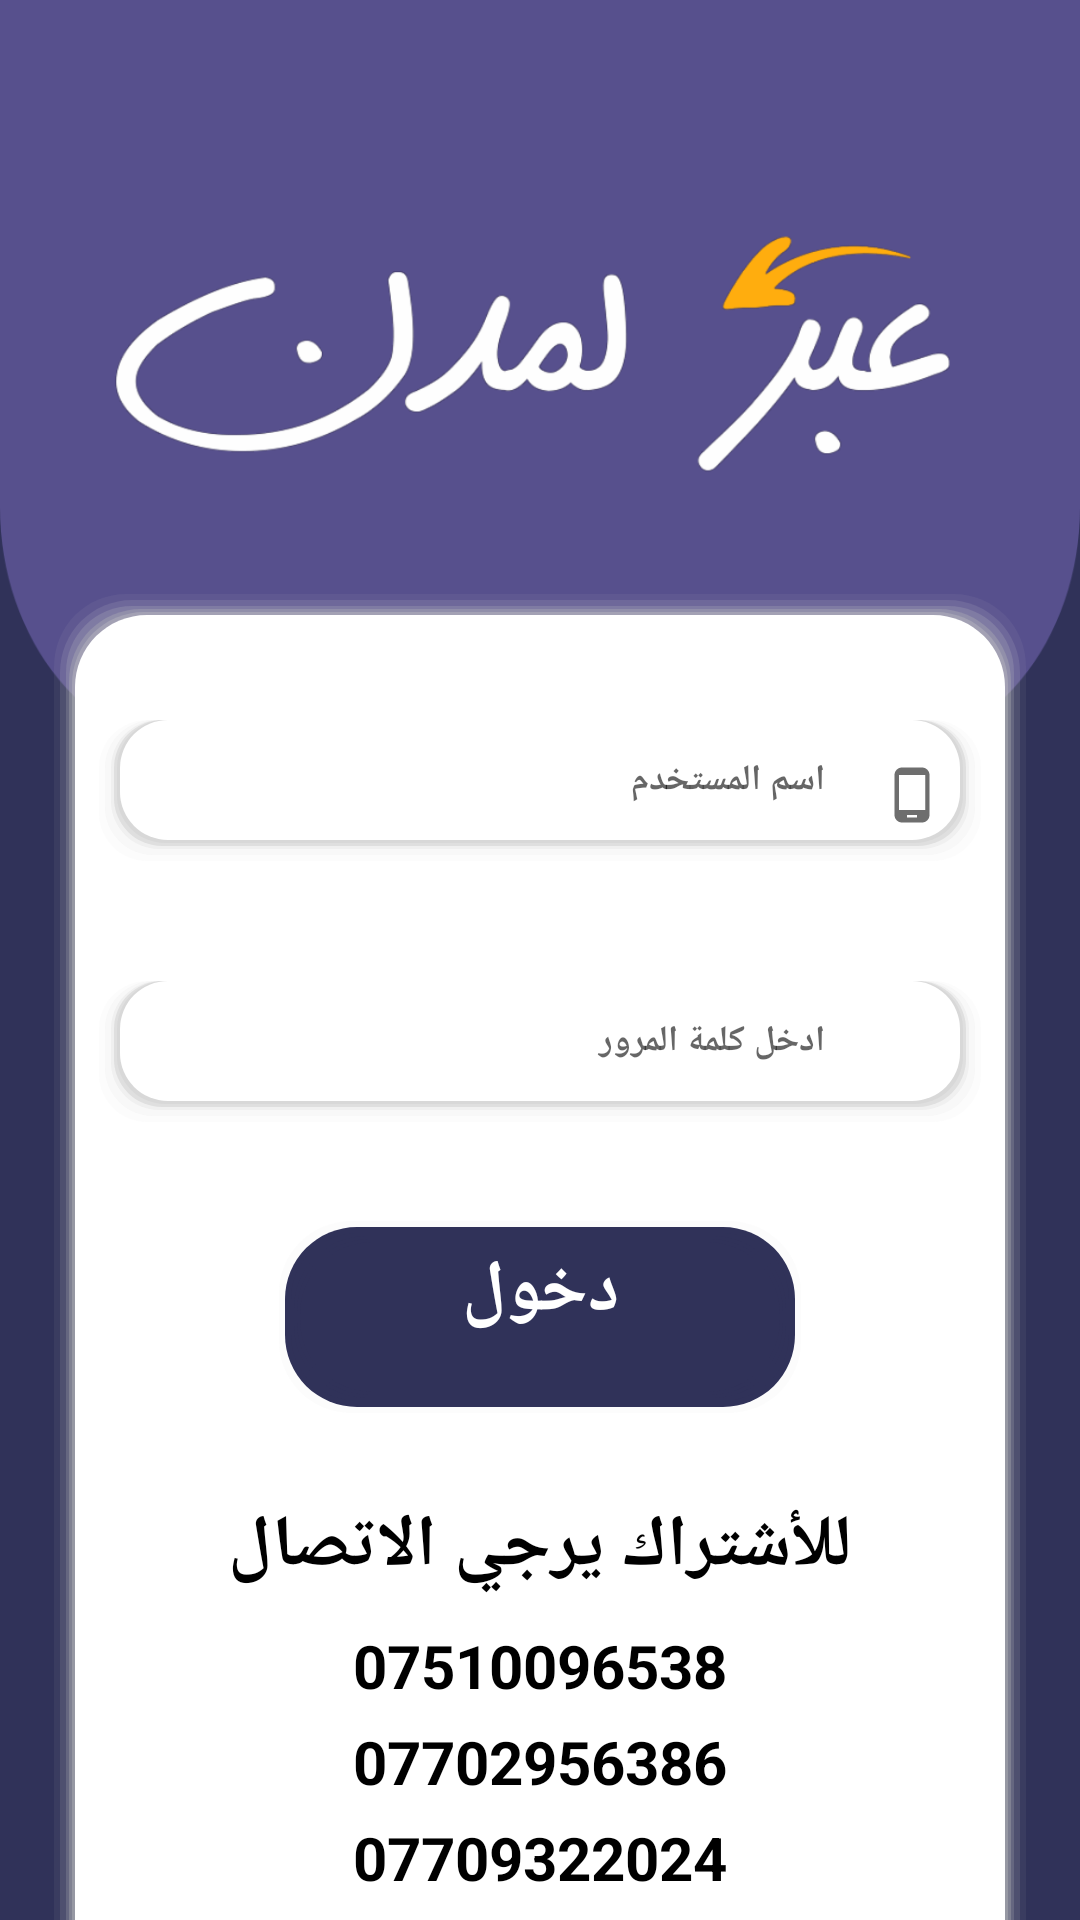

Where icons sit on this 1080*1920 app screen, as box=[x1, y1, x2, y2]:
phone android: box=[894, 767, 930, 823]
